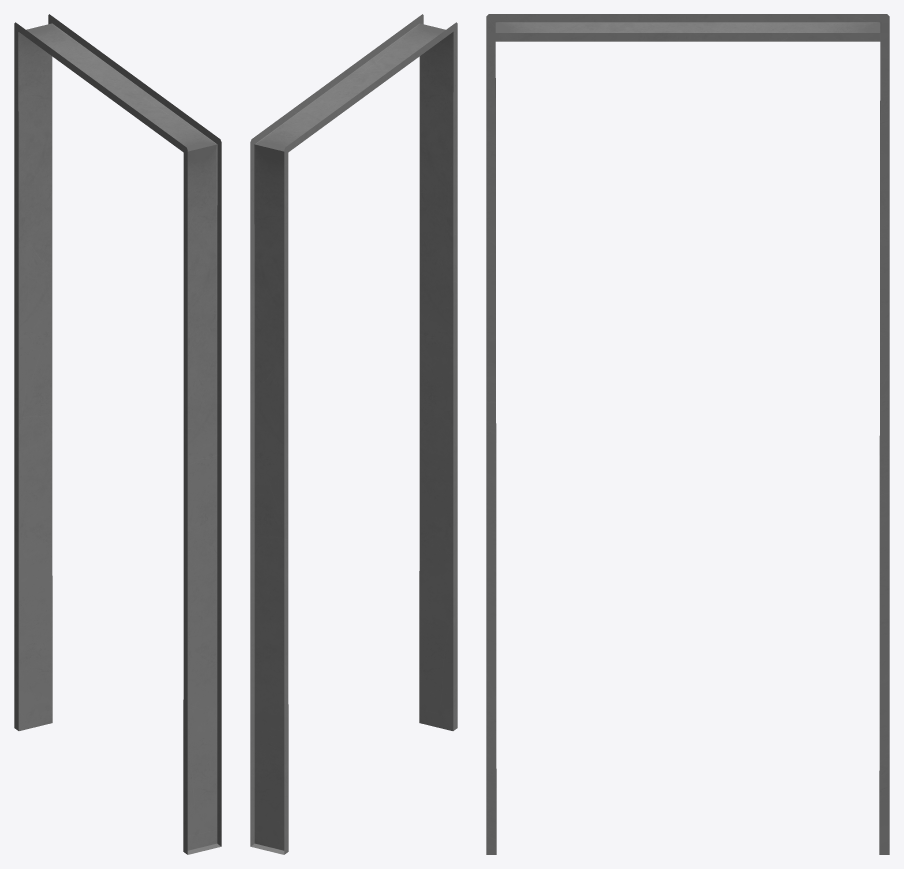
File: SM_DoorFrame.fbx
3 renders of one model, left to right at view 1: azimuth 30°, elevation 25°; view 2: azimuth 150°, elevation 25°; view 3: azimuth 270°, elevation 25°, orthographic. The views are drawn at different scales.
Parts seen in each view (by area): view 1: SM_DoorFrame_LOD0; view 2: SM_DoorFrame_LOD0; view 3: SM_DoorFrame_LOD0.
Part boxes in pixels (x1,y1,x2,y2): SM_DoorFrame_LOD0: [14, 14, 221, 854]; SM_DoorFrame_LOD0: [250, 14, 457, 854]; SM_DoorFrame_LOD0: [486, 14, 889, 854].
Size of the model in its own units: 9 by 80 by 180.
